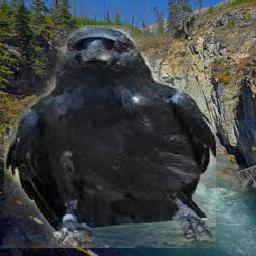Crow: (4, 26, 216, 249)
